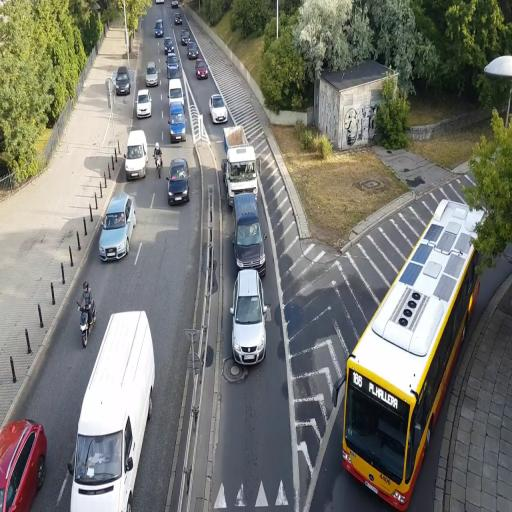vehicle: (342, 182, 482, 508), (70, 310, 154, 510), (0, 418, 47, 512), (232, 153, 266, 274), (230, 269, 268, 367), (233, 190, 266, 274), (98, 193, 136, 263), (224, 139, 258, 206), (124, 130, 148, 181), (166, 158, 190, 204), (169, 100, 186, 142), (208, 94, 229, 124), (134, 90, 152, 120), (114, 67, 131, 96), (145, 63, 159, 87), (196, 61, 208, 80)
